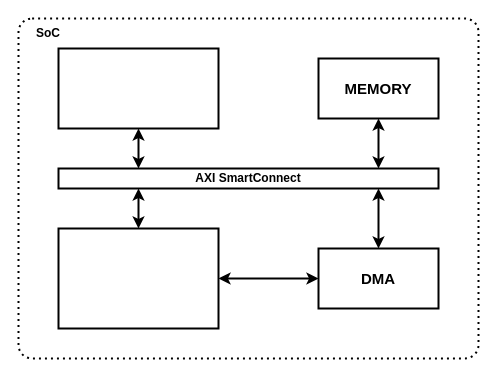
Image size: 496x376. Some labels were removed from this diagram. Each missing label, with the centre of its shape:
"H264 Intra Encoder IP" belongs at point 138,278.
"RV32I CORE" belongs at point 138,88.
